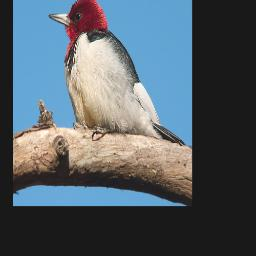Woodpecker: (48, 0, 186, 145)
